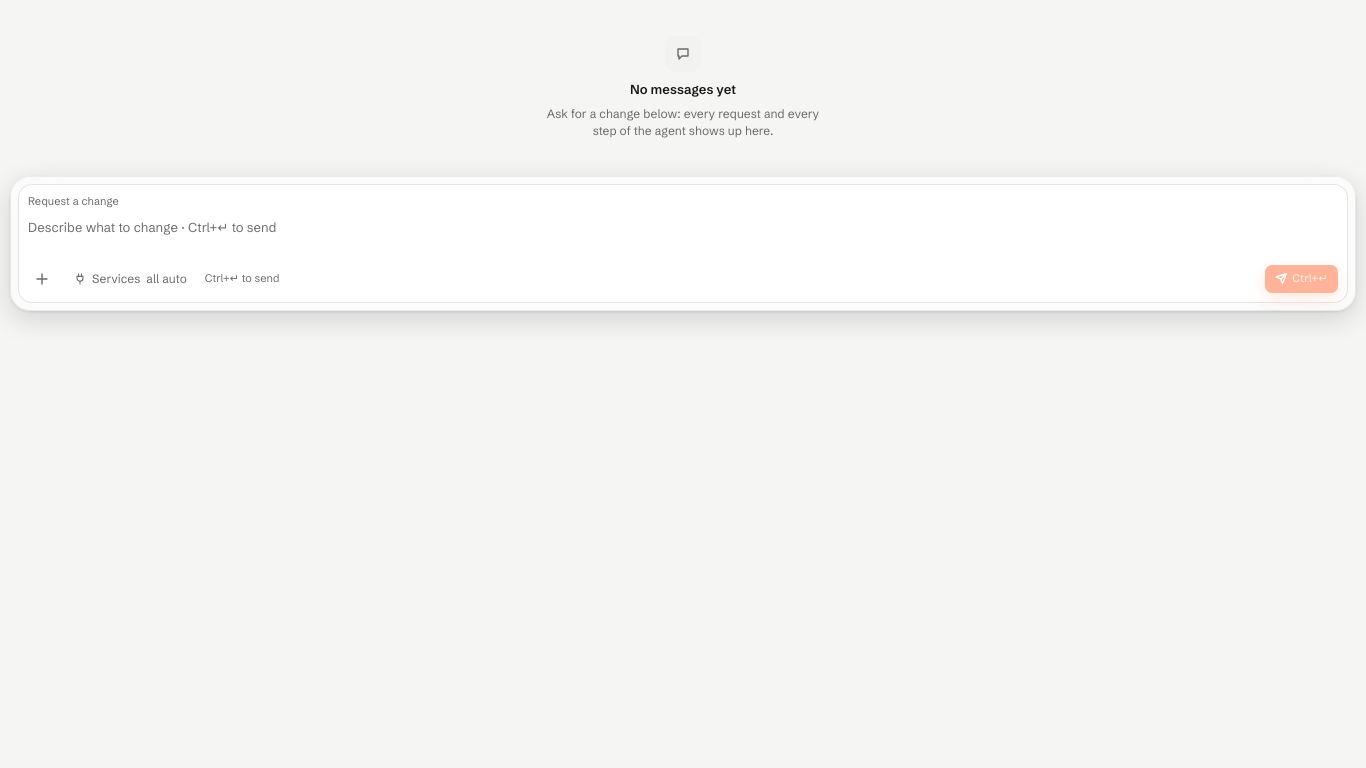
Scenario: the composer "Services" chip › shows the error and keeps the old choice when the save fails
Click the button with aria-label "Services: all auto." at {"x": 130, "y": 279}, box left=64, top=265, right=197, bottom=293
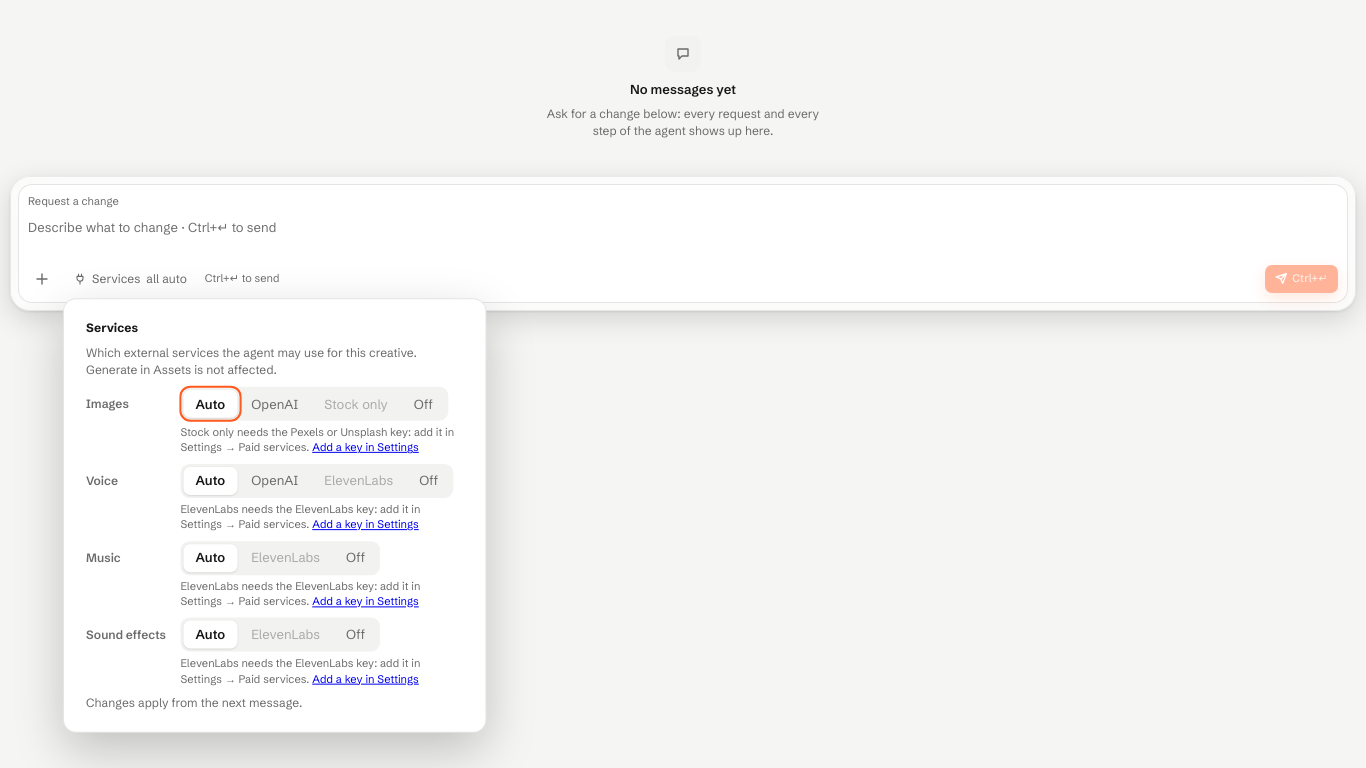
Click the radio button labelled "Off" in the row of "Music" at {"x": 355, "y": 556}, box left=333, top=542, right=376, bottom=570
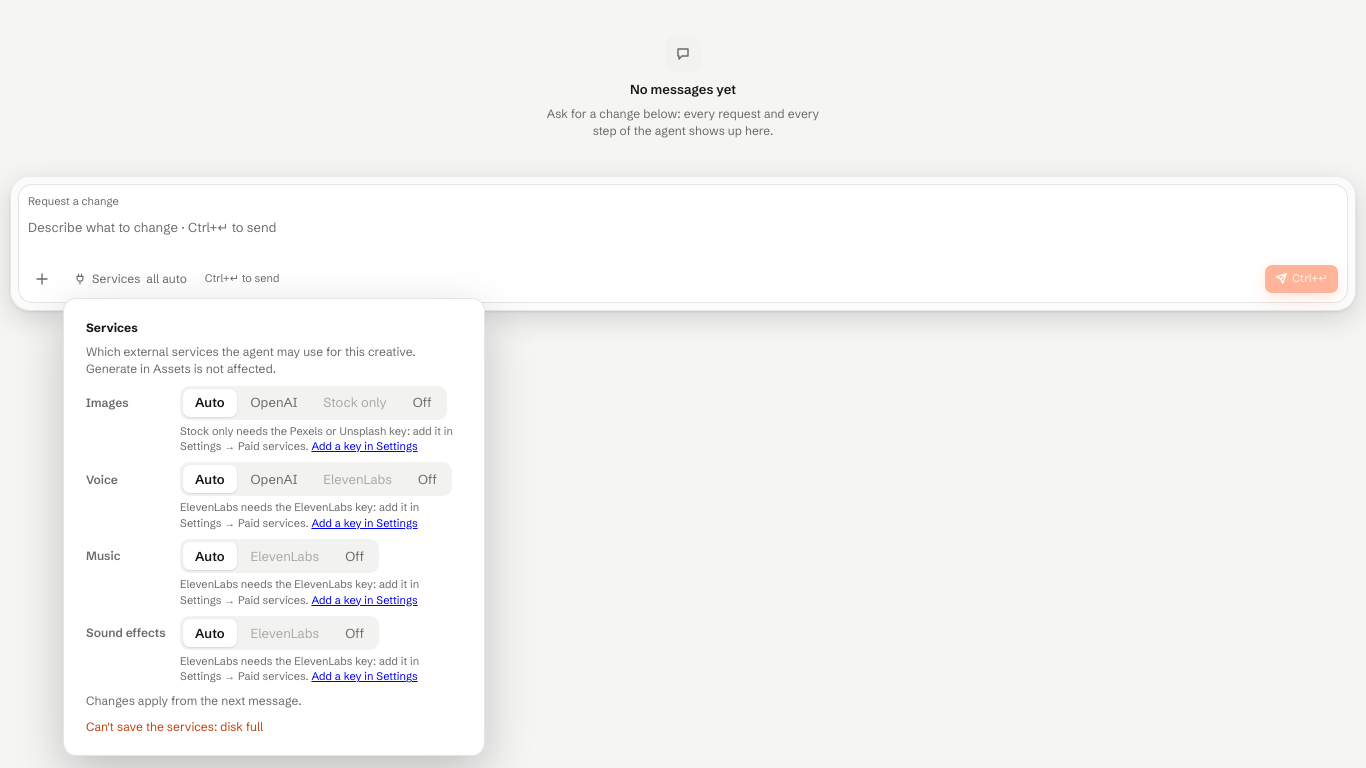
Expected: the message "Can't save the services: disk full" is shown, left=86, top=718, right=263, bottom=734
